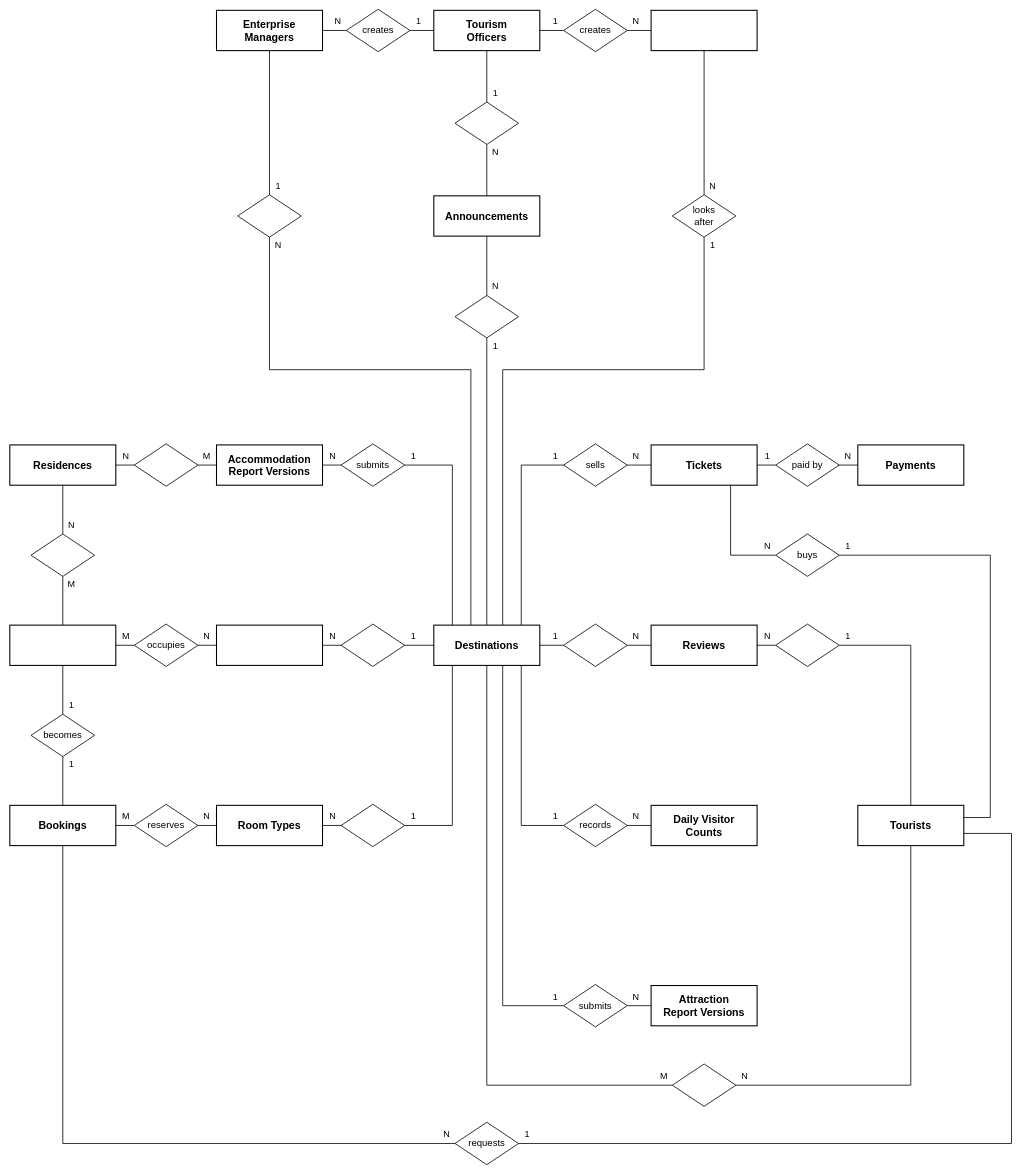
Image size: 1021x1174. Some labels were removed from this diagram. Here are the shapes that lost their labels. From the top down, the centre of each, then its label:
point (703, 30): Support Staff
point (486, 123): posts
point (269, 215): manages
point (486, 316): concerns
point (166, 464): counts
point (62, 555): guests from
point (62, 645): Stays
point (269, 645): Rooms
point (372, 645): has
point (595, 645): receives
point (807, 645): writes
point (372, 825): offers
point (704, 1085): saves
